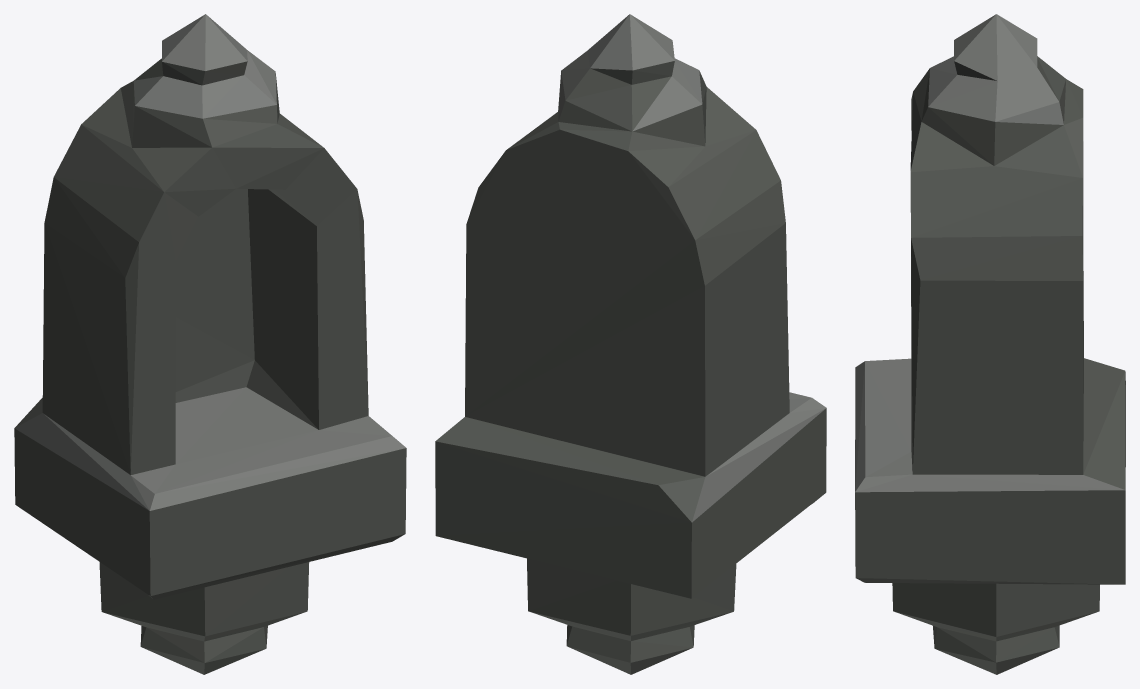
File: MDungeon_Alcove_01.FBX
The picture shows the model from 3 angles, left to right: view 1: azimuth 30°, elevation 25°; view 2: azimuth 150°, elevation 25°; view 3: azimuth 270°, elevation 25°; orthographic projection.
Visible parts, largest first — view 1: MDungeon_Alcove_01_LOD0; view 2: MDungeon_Alcove_01_LOD0; view 3: MDungeon_Alcove_01_LOD0.
Boxes of the visible parts, <box> form: MDungeon_Alcove_01_LOD0: <box>14,14,406,674</box>; MDungeon_Alcove_01_LOD0: <box>435,14,826,674</box>; MDungeon_Alcove_01_LOD0: <box>855,14,1125,674</box>.
Size of what is drawn, in the model's own units: 0.3573 by 0.8779 by 0.3257.
